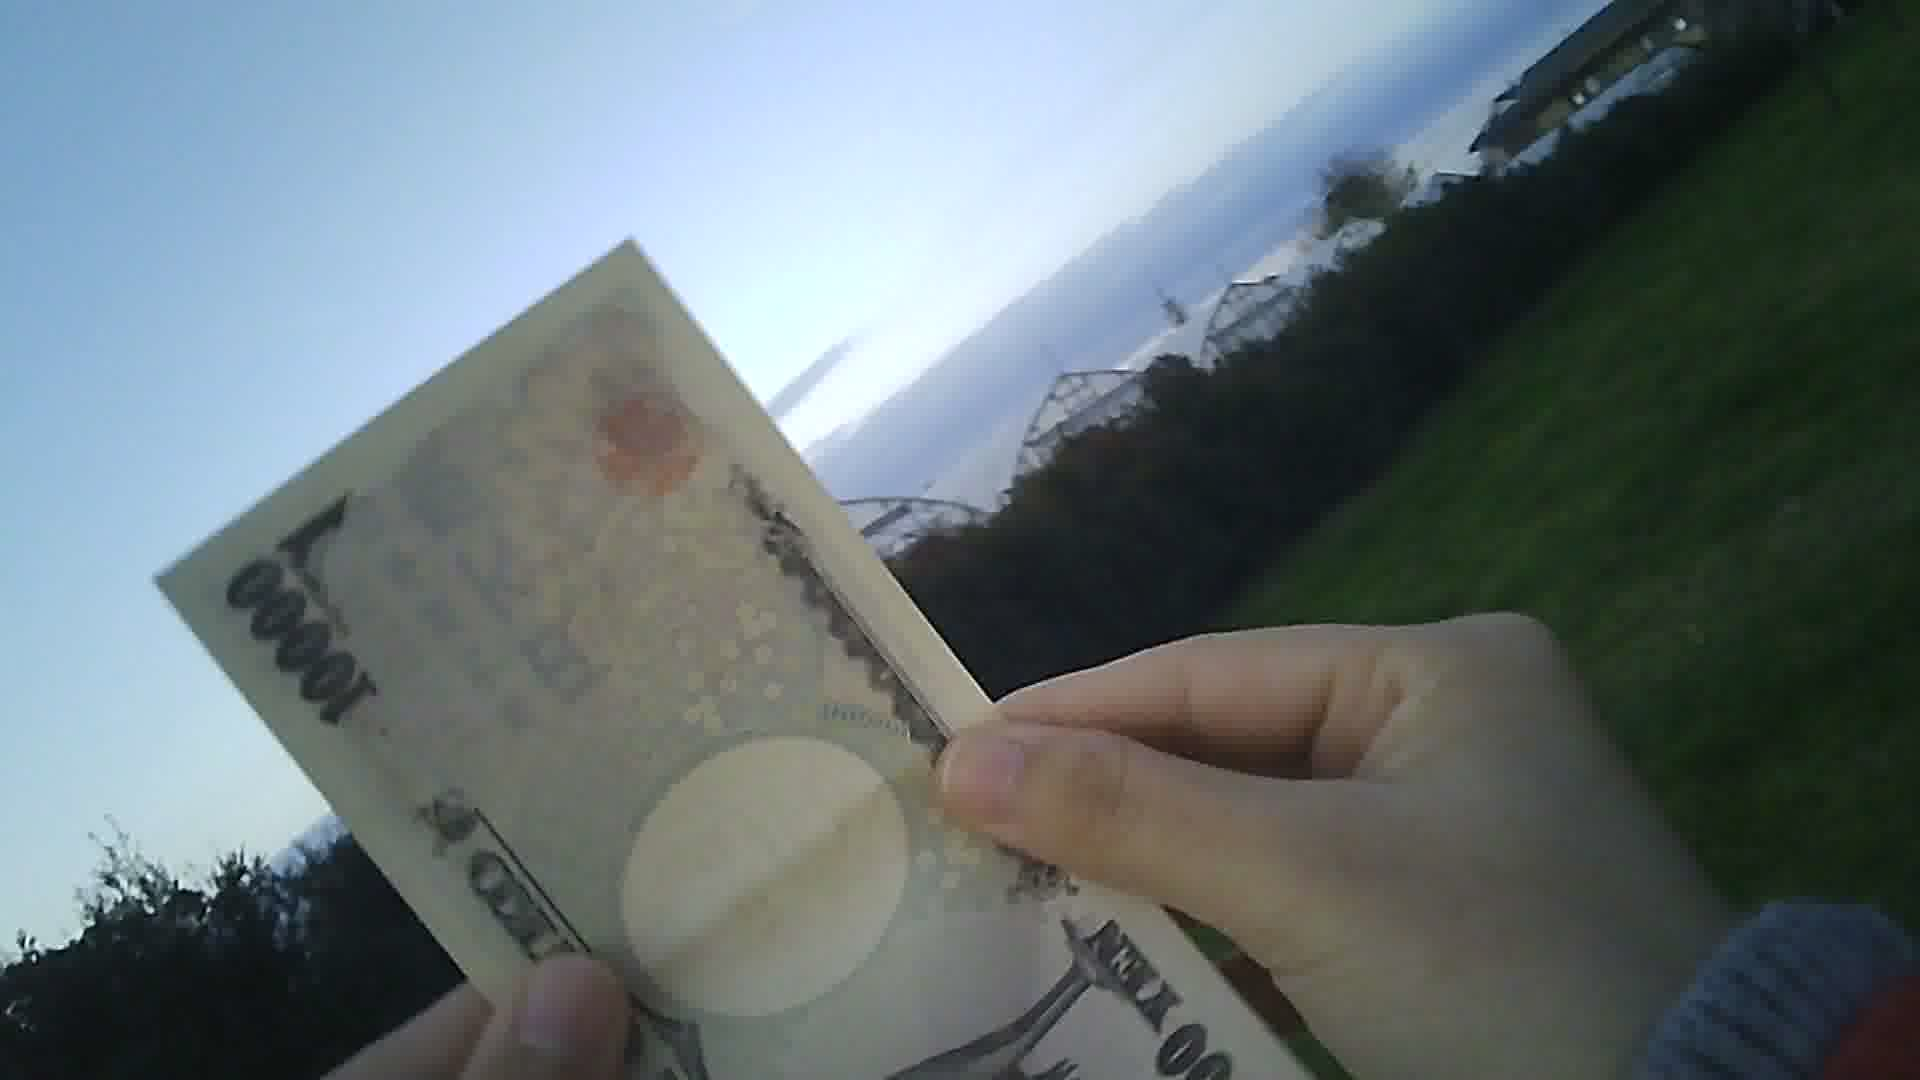10,000 Yen: (160, 235, 1309, 1079)
